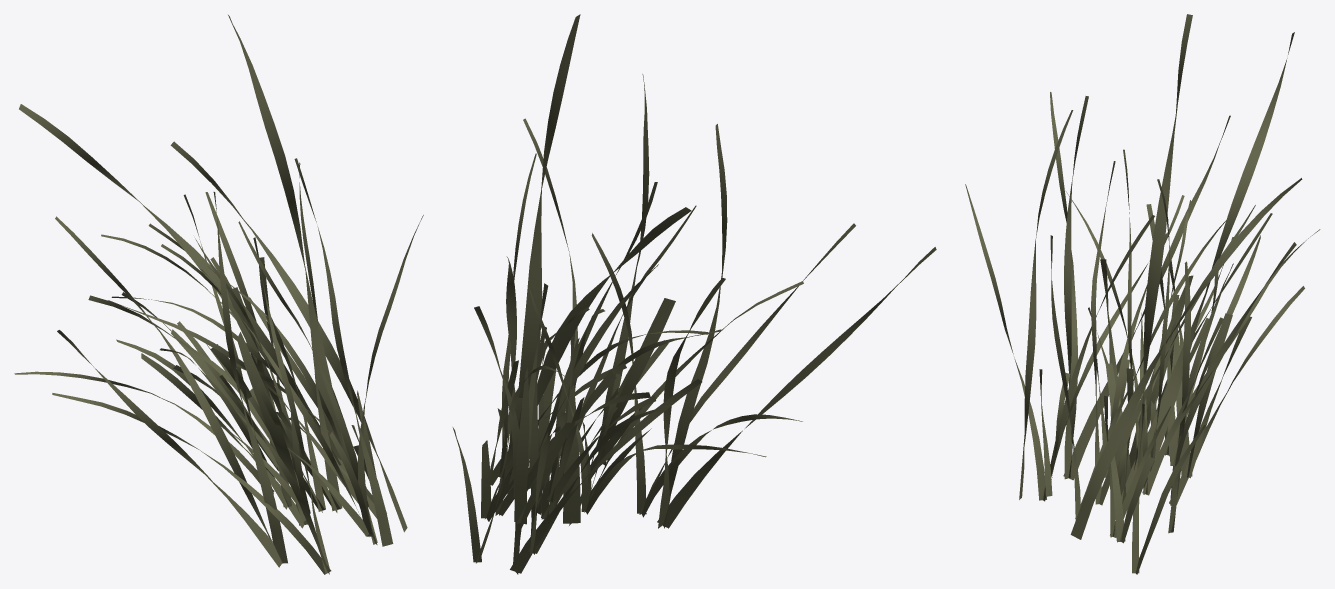
The model's file is Grass5.fbx.
3 renders of one model, left to right at view 1: azimuth 30°, elevation 25°; view 2: azimuth 150°, elevation 25°; view 3: azimuth 270°, elevation 25°, orthographic. The views are drawn at different scales.
Visible parts, largest first — view 1: grassClump27Main; view 2: grassClump27Main; view 3: grassClump27Main.
Part boxes in pixels (x1=…): grassClump27Main: x1=14, y1=15, x2=423, y2=574; grassClump27Main: x1=452, y1=14, x2=936, y2=574; grassClump27Main: x1=965, y1=14, x2=1320, y2=574.
Bounding box in the file's own units: 0.8518 × 1.19 × 0.7594.
